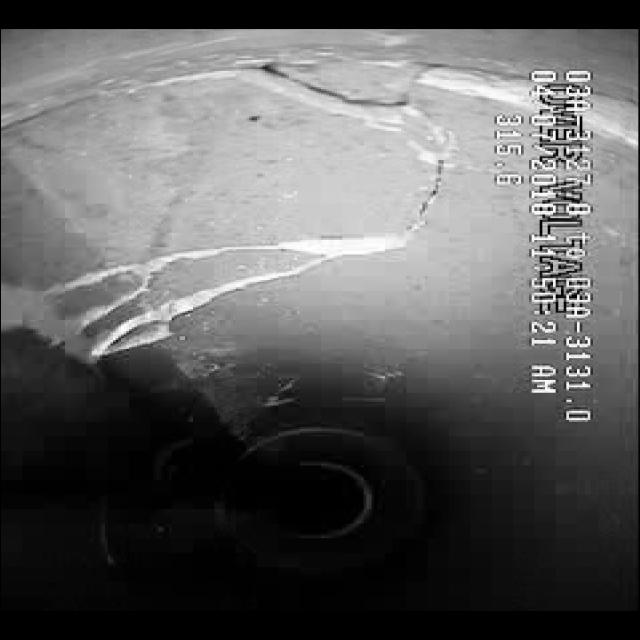Crack: (125, 59, 472, 358)
